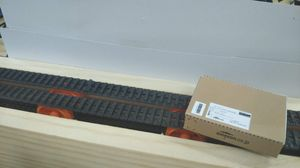box2: (183, 72, 288, 158)
